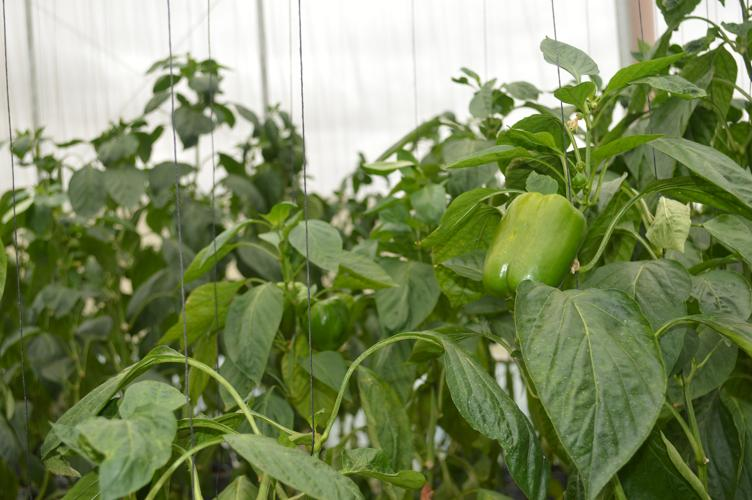BellPepper: (474, 189, 590, 306), (298, 296, 362, 354)
